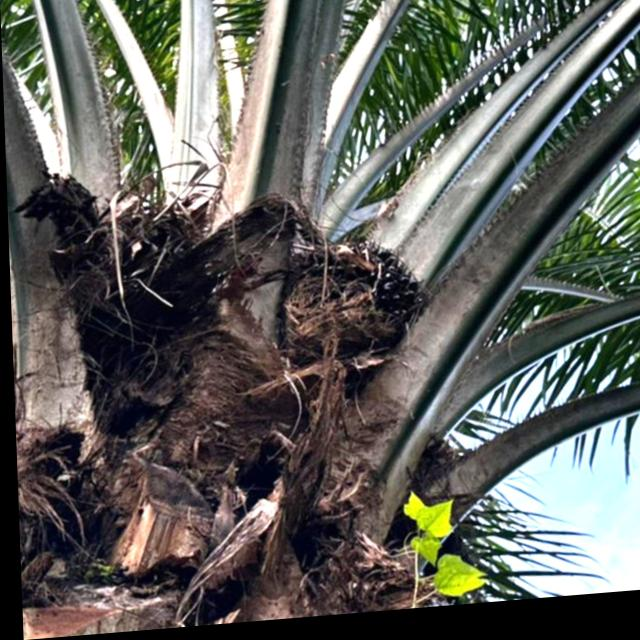unripe: (260, 231, 433, 399)
